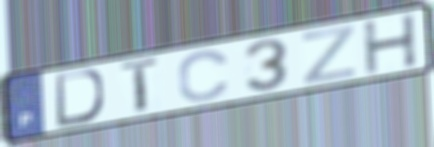3: (241, 37, 291, 94)
C: (176, 48, 233, 103)
D: (53, 67, 108, 130)
H: (360, 11, 420, 77)
T: (118, 54, 165, 117)
Z: (300, 22, 358, 87)
